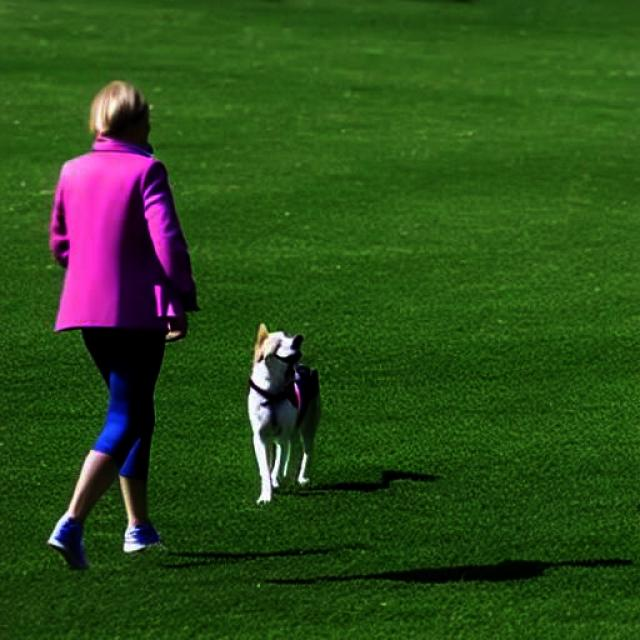Unleashed_Dog: (96, 262, 324, 508)
